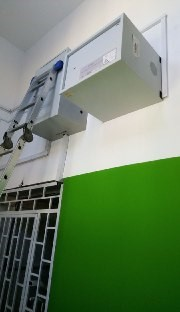shta-7m: (58, 12, 166, 124)
